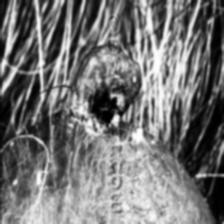Potentially Malignant Skin Tumors: (69, 46, 144, 140)
